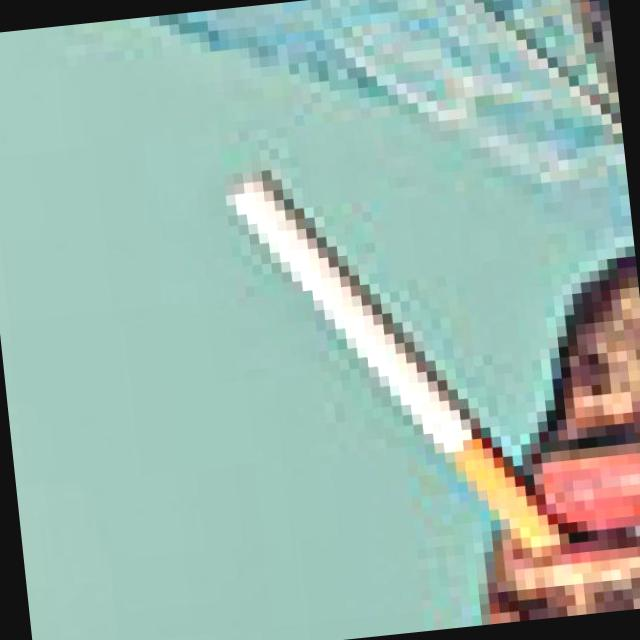smoke: (224, 152, 571, 596)
